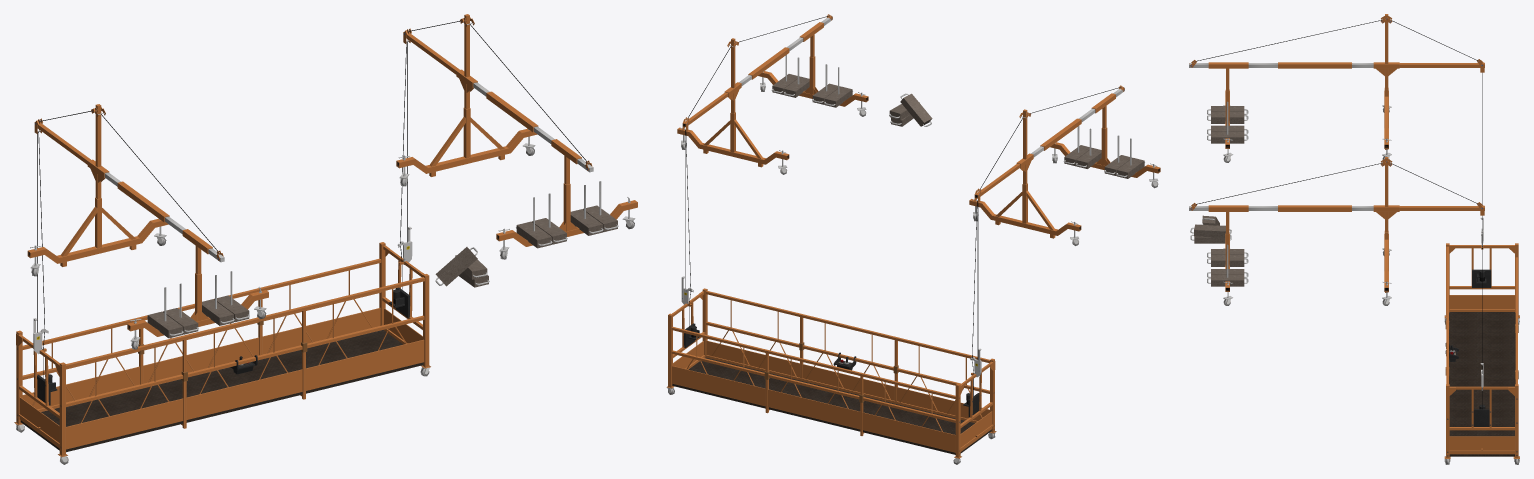
File: wcm_fbx.fbx
3 views of the same model, side by side, from view 1: azimuth 30°, elevation 25°; view 2: azimuth 150°, elevation 25°; view 3: azimuth 270°, elevation 25° (orthographic). The views are drawn at different scales.
Visible parts, largest first — view 1: polySurface8, polySurface199 (×2), polySurface196; view 2: polySurface8, polySurface199 (×2), polySurface196; view 3: polySurface8, polySurface199 (×2), polySurface184 (×2), polySurface193 (×2), polySurface195.
Part boxes in pixels (x1,y1,x2,y2): polySurface8: (14, 226, 430, 464); polySurface199 (×2): (27, 14, 637, 349); polySurface196: (435, 247, 477, 286); polySurface8: (666, 276, 996, 464); polySurface199 (×2): (677, 14, 1160, 245); polySurface196: (900, 93, 932, 126); polySurface8: (1444, 217, 1519, 464); polySurface199 (×2): (1189, 14, 1484, 305); polySurface184 (×2): (1207, 131, 1248, 286); polySurface193 (×2): (1207, 112, 1248, 266); polySurface195: (1190, 224, 1231, 237).
Bounding box in the file's own units: 1068 × 780 × 758.
